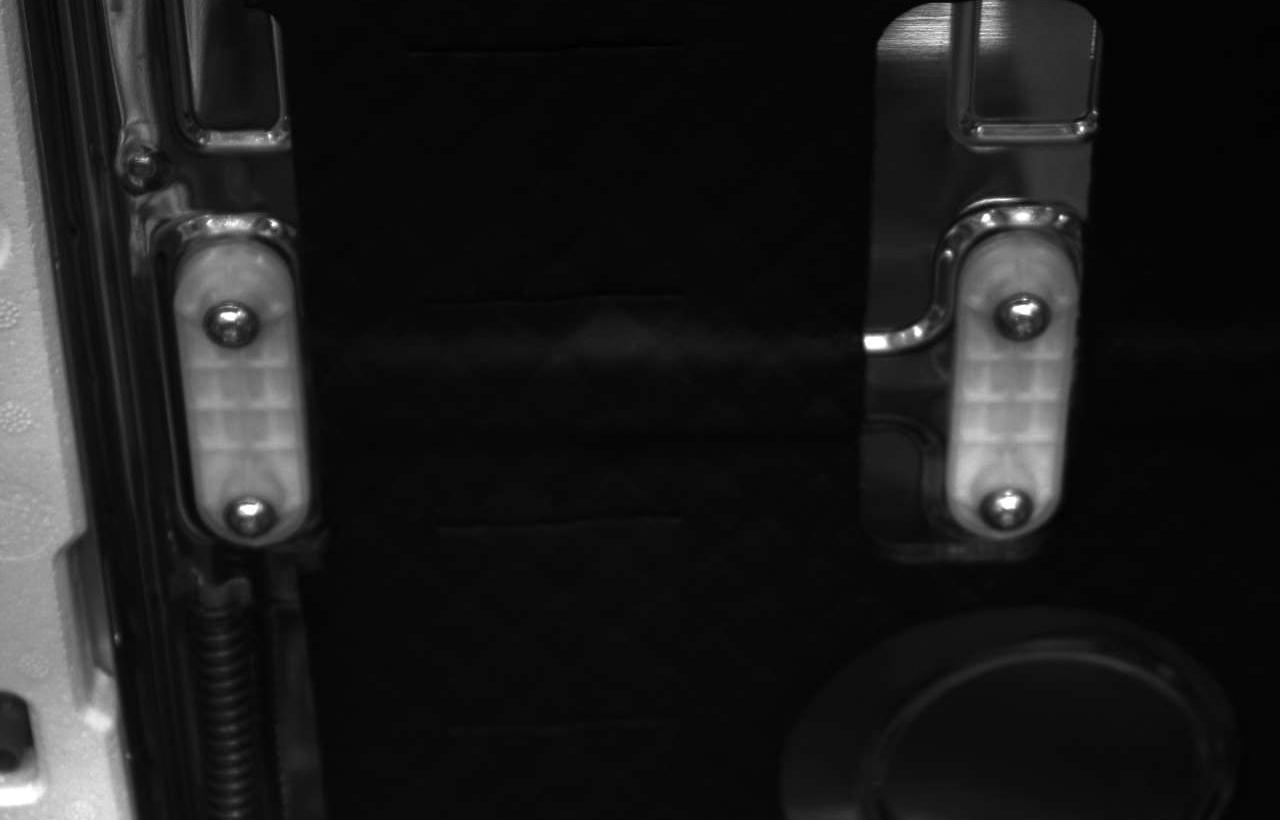vida-ok: (196, 291, 267, 358), (990, 282, 1057, 349), (973, 474, 1039, 542), (219, 488, 284, 547)
